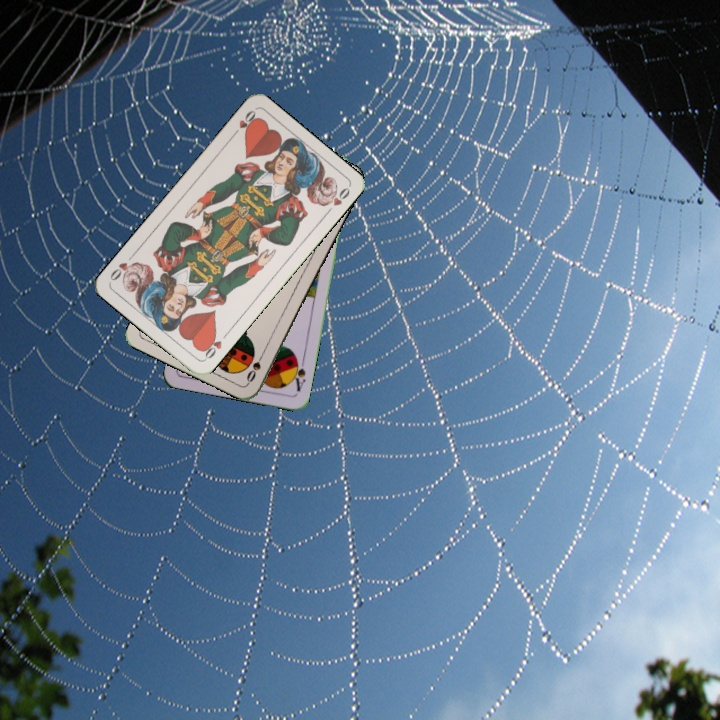HO: (198, 329, 231, 363), (228, 106, 260, 140)
SA: (288, 354, 308, 394)
SO: (242, 347, 267, 385)
